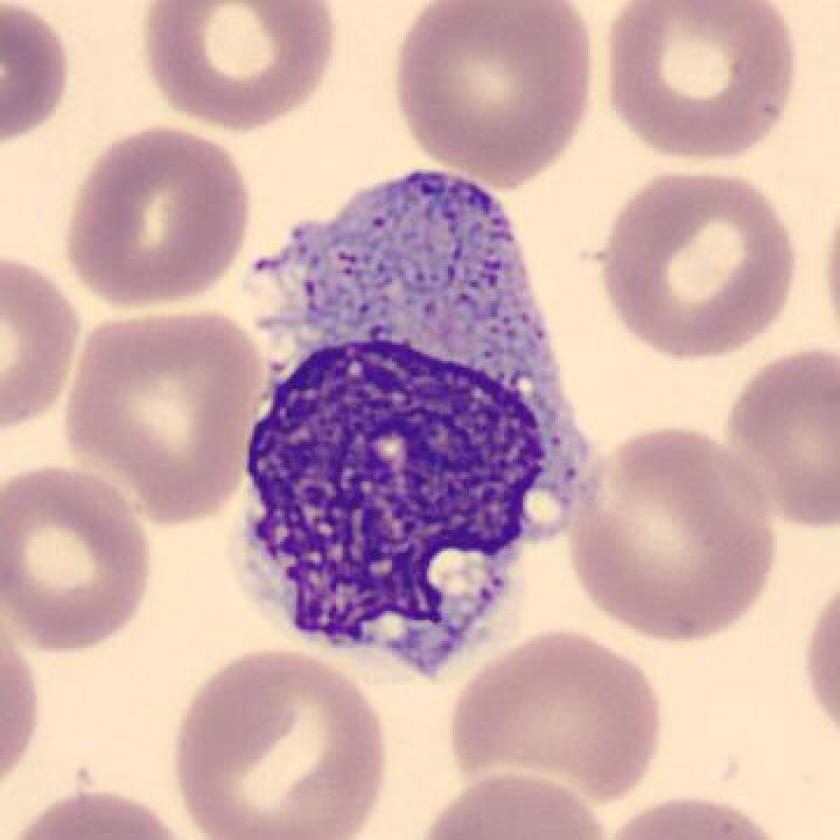monocyte: (204, 145, 622, 695)
